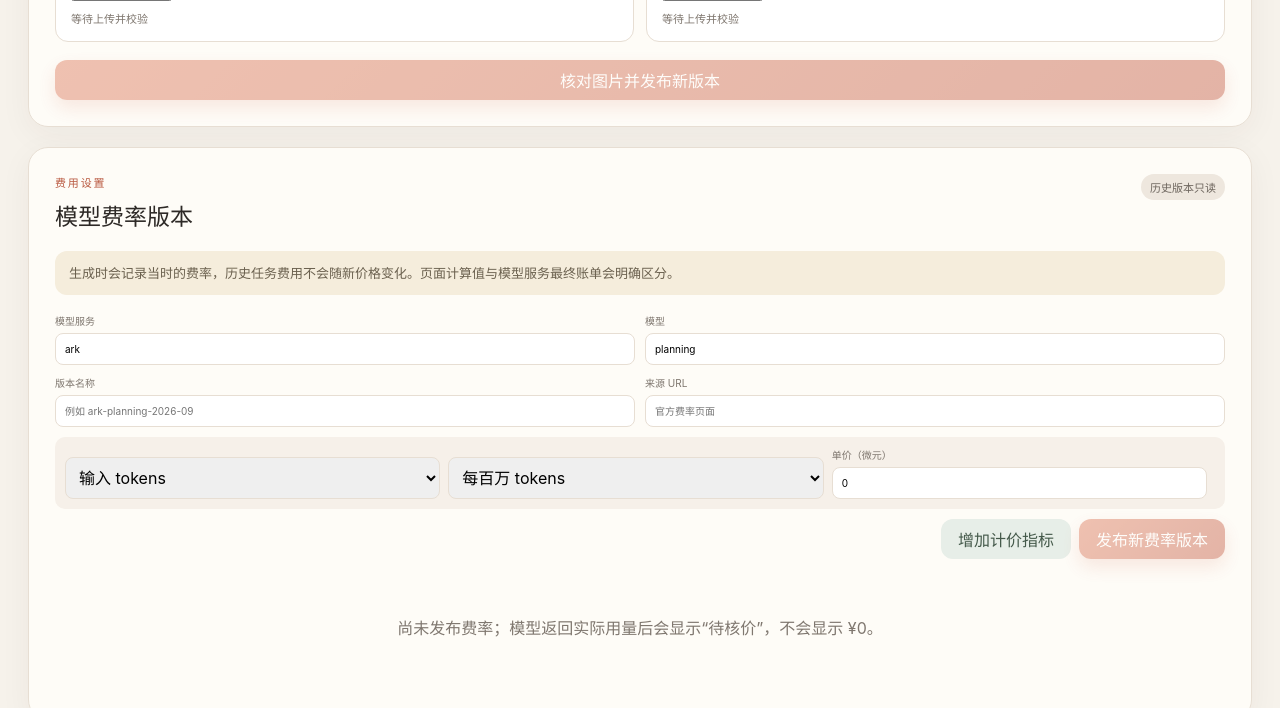
Test: RuntimeSettingsView › publishes a new immutable rate-card revision instead of editing history
The width and height of the screenshot is (1280, 708).
(page scrolled)
Replace the text in the field with test id "rate-model" with "doubao-seed-2-1-pro-260628". click: (935,349)
box: [645,333,1225,365]
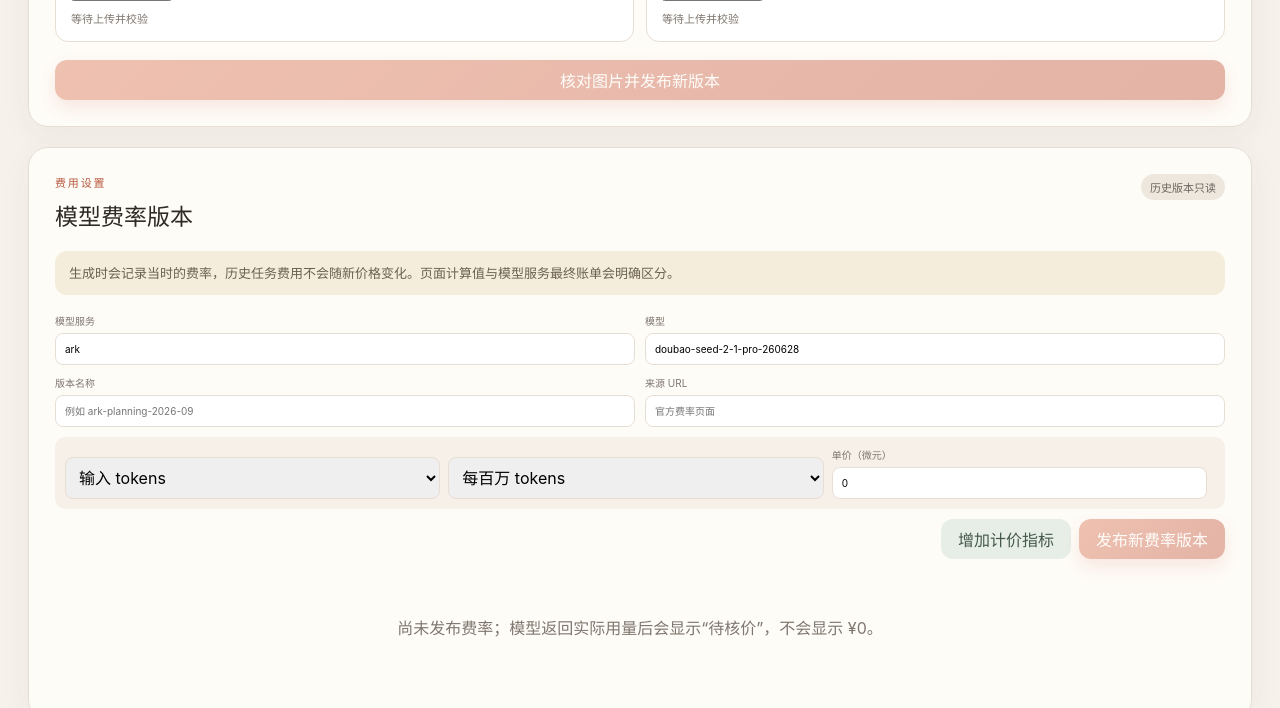
Type "ark-planning-2026-09" into the field with test id "rate-revision". click: (345,411)
box: [55,395,635,427]
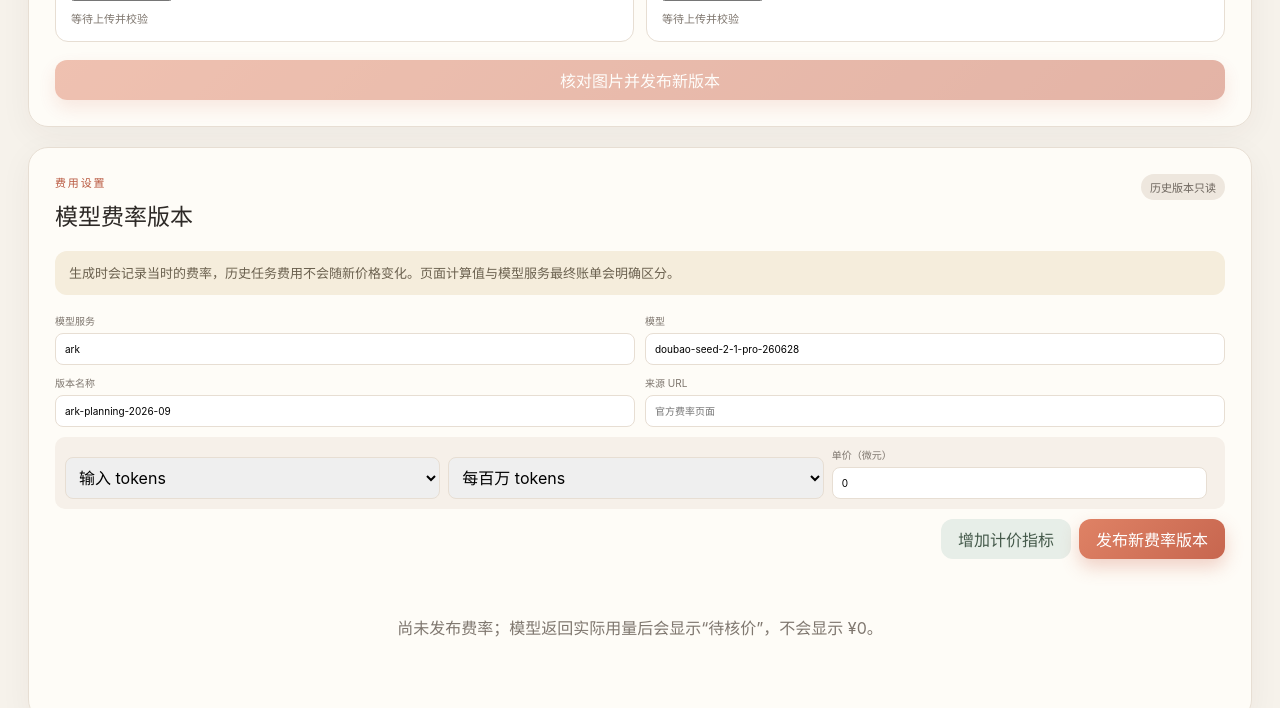
Replace the text in the number field with test id "rate-price" with "2000000". click: (1019,483)
box: [832,467,1207,499]
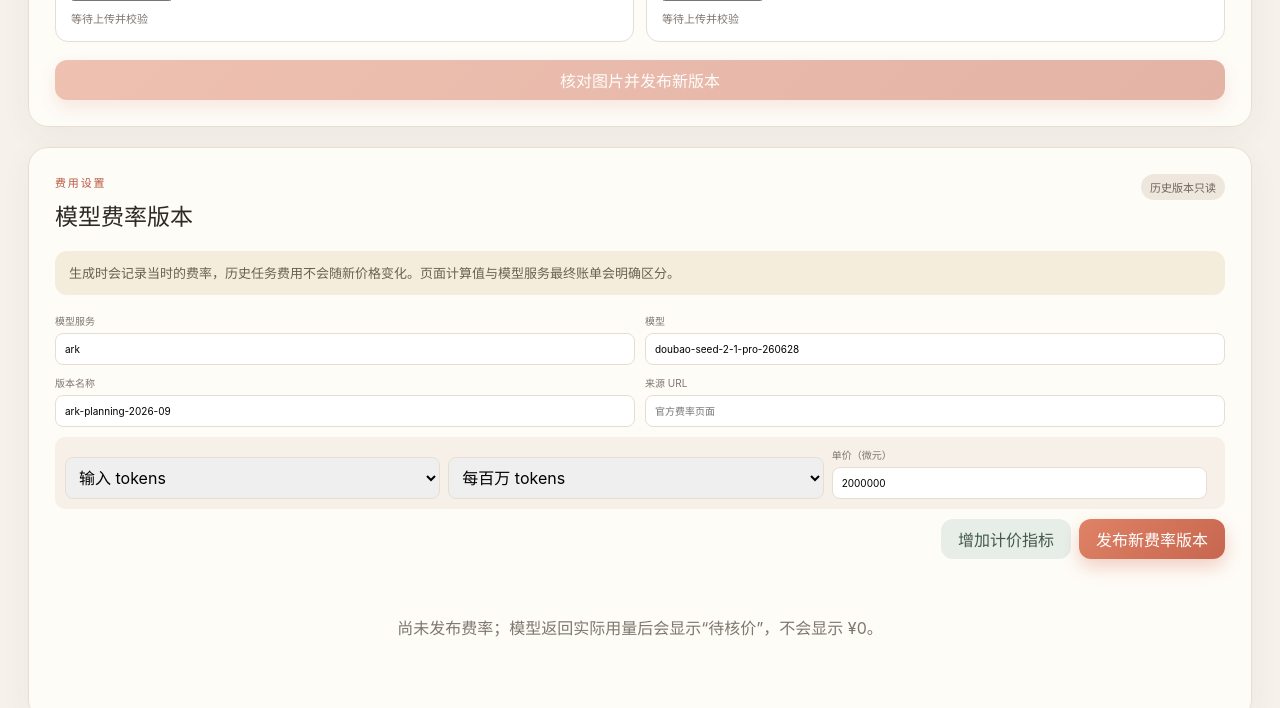
Click the button with test id "publish-rate-card". click: (1152,539)
box: [1079,519,1225,559]
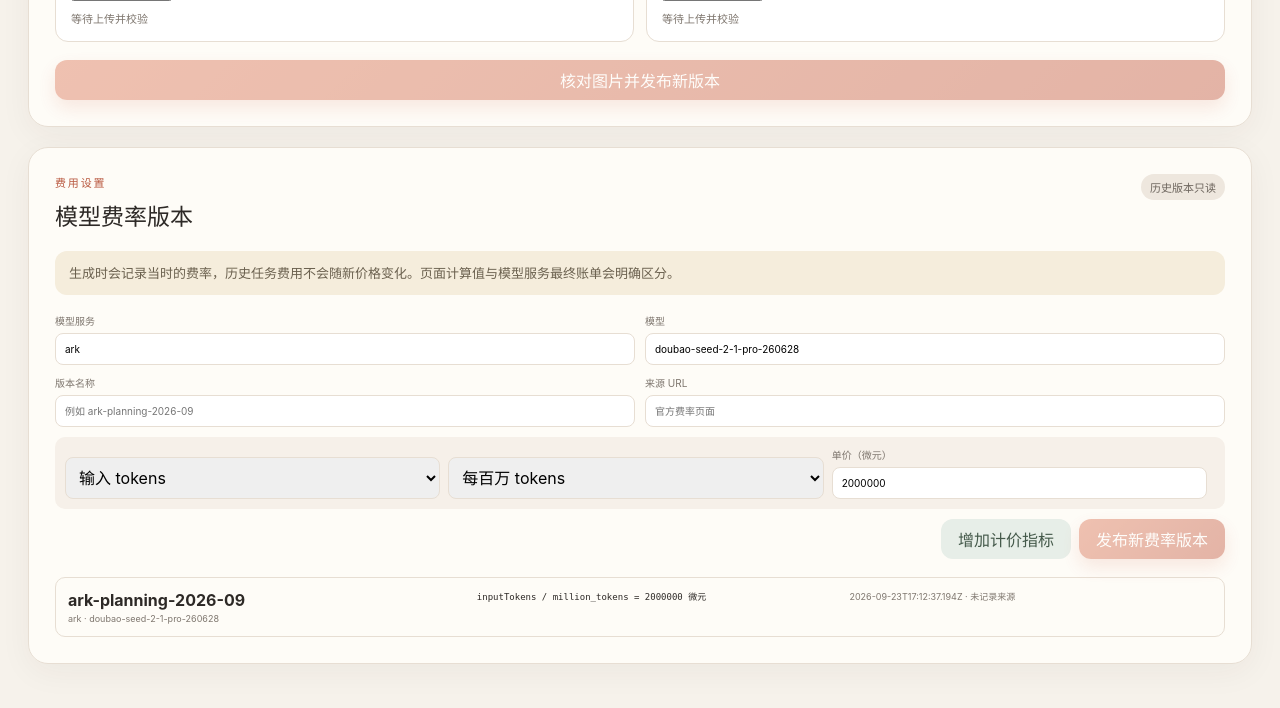
expect the text "ark-planning-2026-09" is shown: met, box [68,590,245,610]
